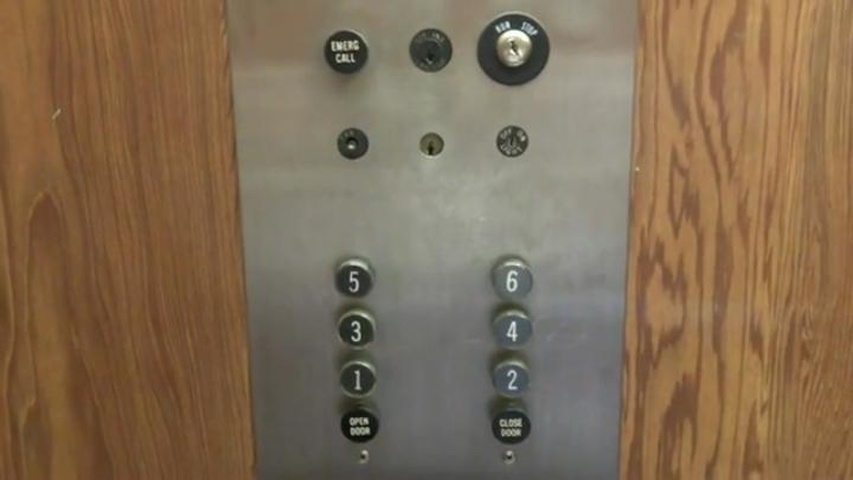1: (336, 356, 378, 401)
2: (489, 357, 534, 400)
3: (334, 305, 378, 349)
4: (490, 306, 534, 353)
5: (333, 256, 375, 300)
6: (489, 253, 534, 301)
keyhole: (473, 9, 553, 91), (406, 25, 453, 77), (493, 121, 531, 162), (335, 125, 370, 164), (416, 128, 448, 160)
text_close door: (489, 405, 532, 447)
text_emege call: (320, 26, 371, 79)
text_open door: (337, 405, 380, 447)
